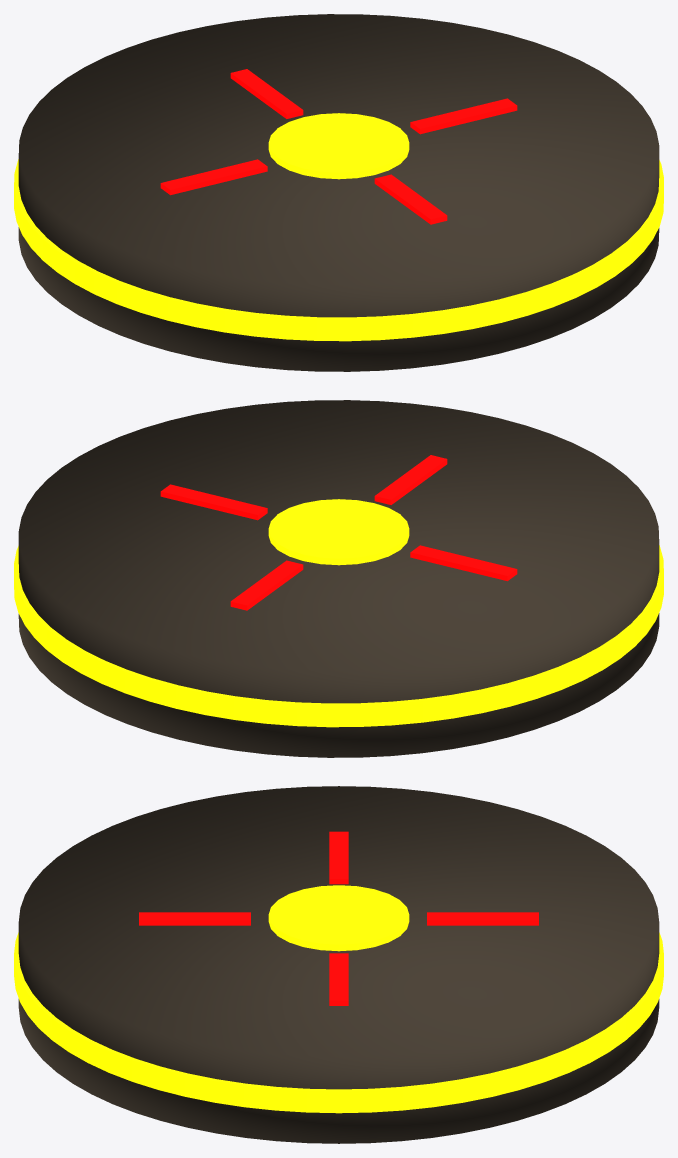
Rendered from disco_cyber_colosseum.glb.
3 renders of one model, top to bottom at view 1: azimuth 30°, elevation 25°; view 2: azimuth 150°, elevation 25°; view 3: azimuth 270°, elevation 25°, orthographic.
Parts seen in each view (by area): view 1: Cylinder, Cylinder.001, Cylinder.002, Cube, Cube.002, Cube.001, Cube.003; view 2: Cylinder, Cylinder.001, Cylinder.002, Cube, Cube.002, Cube.001, Cube.003; view 3: Cylinder, Cylinder.001, Cylinder.002, Cube.001, Cube.003, Cube.002, Cube.
Boxes of the visible parts, box(x1,y1,x2,y2) form: Cylinder: box(18, 14, 659, 371); Cylinder.001: box(14, 159, 663, 341); Cylinder.002: box(268, 113, 409, 179); Cube: box(410, 98, 517, 134); Cube.002: box(160, 159, 267, 195); Cube.001: box(230, 69, 303, 118); Cube.003: box(374, 174, 447, 224); Cylinder: box(18, 400, 659, 757); Cylinder.001: box(14, 545, 663, 727); Cylinder.002: box(268, 499, 409, 565); Cube: box(160, 484, 267, 520); Cube.002: box(410, 545, 517, 581); Cube.001: box(230, 560, 303, 610); Cube.003: box(374, 455, 447, 504); Cylinder: box(18, 786, 659, 1143); Cylinder.001: box(14, 932, 663, 1113); Cylinder.002: box(268, 885, 409, 951); Cube.001: box(427, 912, 538, 925); Cube.003: box(139, 912, 250, 925); Cube.002: box(329, 831, 348, 884); Cube: box(329, 953, 348, 1005).
Bounding box in the file's own units: 0.1015 × 0.0172 × 0.1015.
